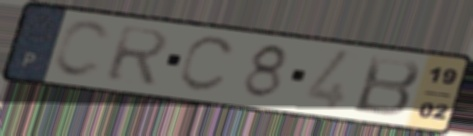4: (301, 47, 353, 115)
8: (238, 42, 289, 102)
B: (350, 53, 425, 119)
C: (50, 18, 115, 81), (175, 35, 240, 96)
R: (103, 24, 173, 88)
